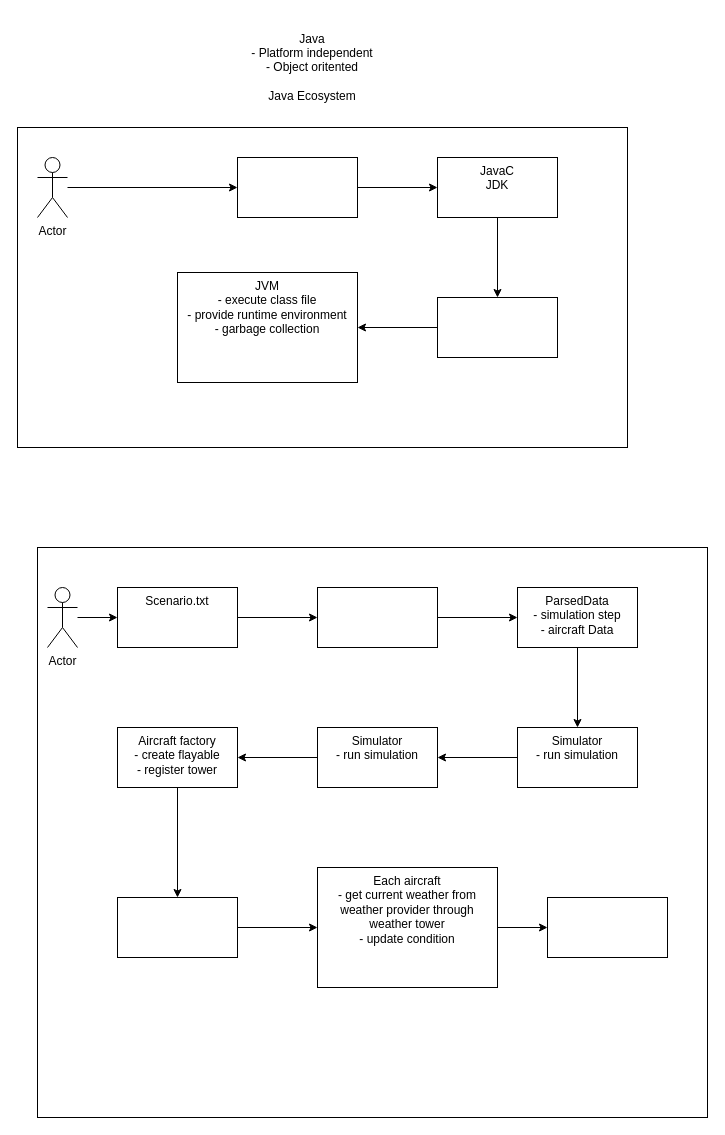
Image size: 725x1135. Some labels were removed from this diagram. Here are the shapes that lost their labels. From the top down, the centre of each, then its label:
(x=297, y=187): HelloWorld.java
(x=497, y=327): HelloWord.class byte code
(x=377, y=617): Parser - verify file - parse file into parsed Data
(x=177, y=927): Weather tower (subject) - store a list of flyable - change weather
(x=607, y=927): Logger record all the simulation in the updated condition
